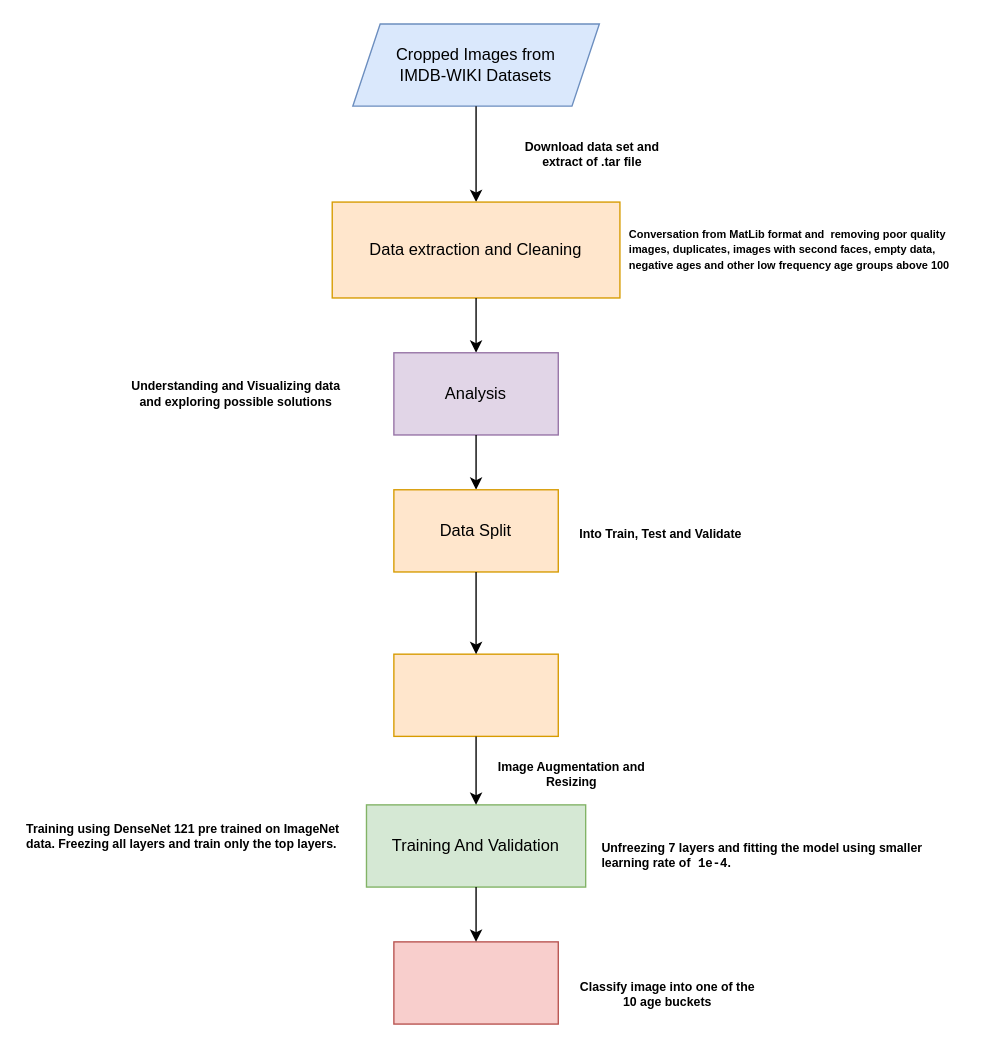
The diagram is 1006 pixels wide and 1048 high, and some of its shapes have lost their labels. Here are the shapes that lost their labels. From the top down, the centre of each, then its label:
At [475,694]: "Preprocessing".
At [475,982]: "Prediction/Testing".
